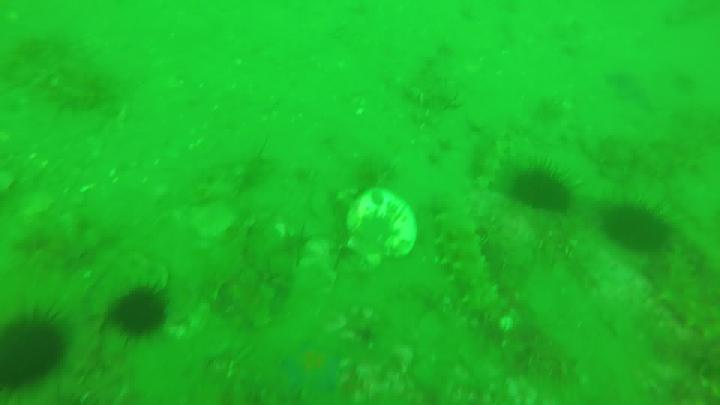echinus: (1, 309, 71, 393), (598, 197, 677, 255), (515, 163, 575, 218), (119, 288, 171, 338)
holothurian: (432, 205, 497, 309), (641, 273, 720, 341)
scallop: (348, 185, 421, 273)
starfish: (283, 338, 340, 398)
